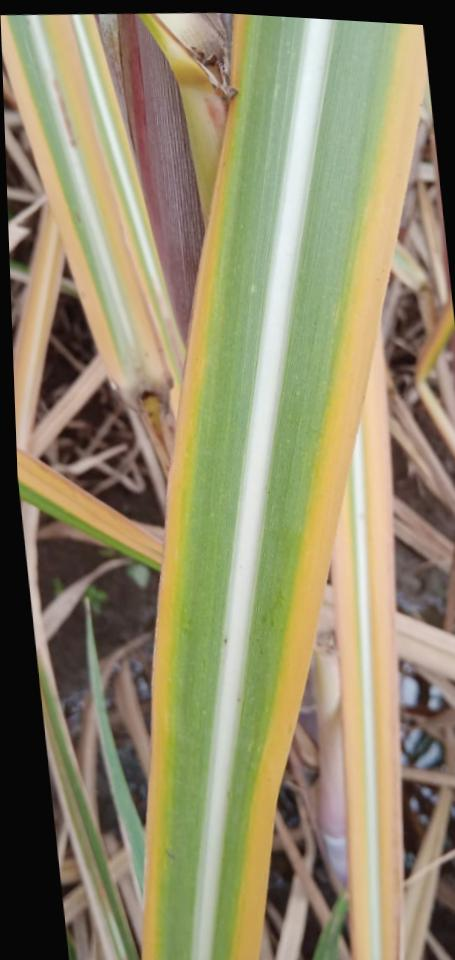RedRot: (155, 294, 183, 376), (50, 77, 77, 148)
Rust: (222, 638, 227, 644), (236, 696, 240, 702)
Yellow: (229, 24, 422, 960), (139, 95, 235, 960), (43, 14, 174, 380), (1, 15, 123, 379), (81, 14, 162, 284), (17, 446, 162, 562), (229, 14, 244, 90)
